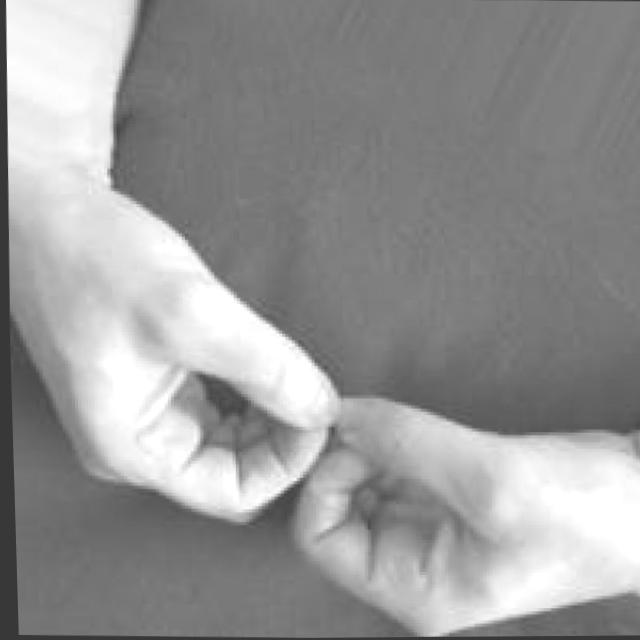B: (5, 178, 640, 640)
